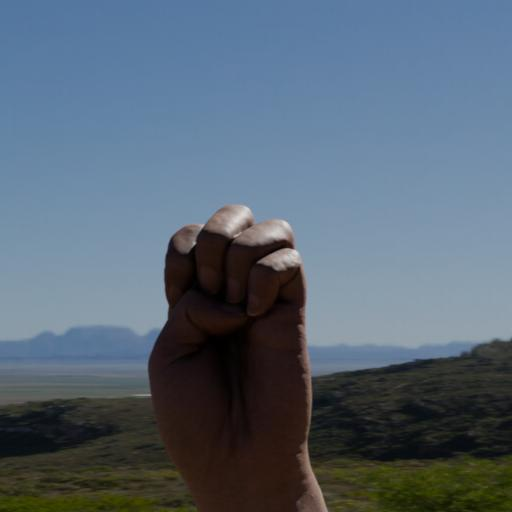E: (143, 198, 320, 488)
